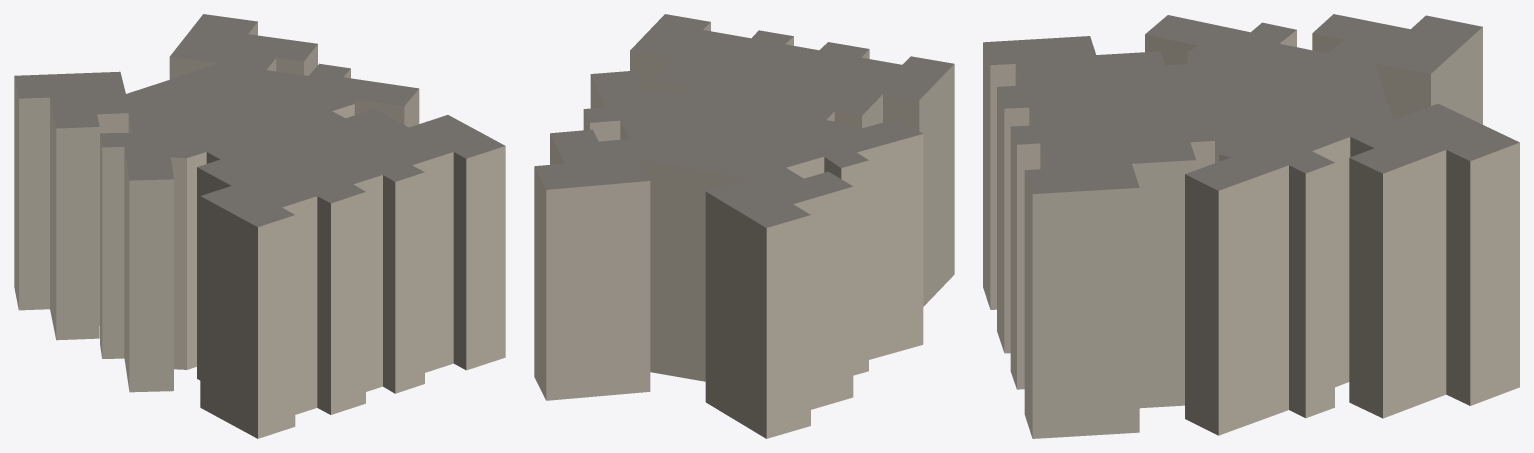
3 views of the same model, side by side, from view 1: azimuth 30°, elevation 25°; view 2: azimuth 150°, elevation 25°; view 3: azimuth 270°, elevation 25° (orthographic). The views are drawn at different scales.
Parts seen in each view (by area): view 1: HP-w1435559499; view 2: HP-w1435559499; view 3: HP-w1435559499.
Part boxes in pixels (x1,y1,x2,y2): HP-w1435559499: (14,14,505,438); HP-w1435559499: (534,14,954,438); HP-w1435559499: (983,14,1519,438).
Bounding box in the file's own units: 28.4 × 18 × 35.78.
